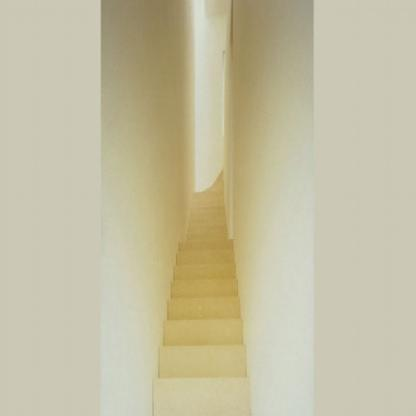stairs: (164, 311, 241, 416)
